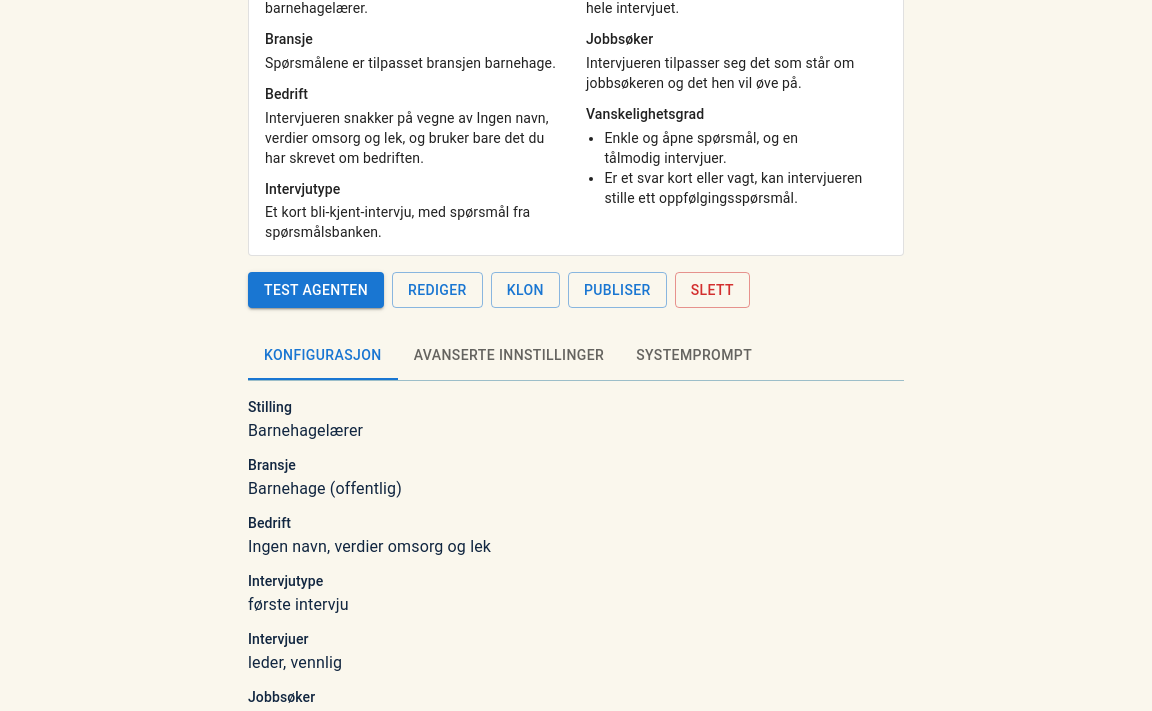
Test: AgentDetail › copying the system prompt › tells the counsellor to copy by hand when the browser refuses
(page scrolled)
Click the tab "Systemprompt".
click(694, 356)  # box [620,332,768,380]
(page scrolled)
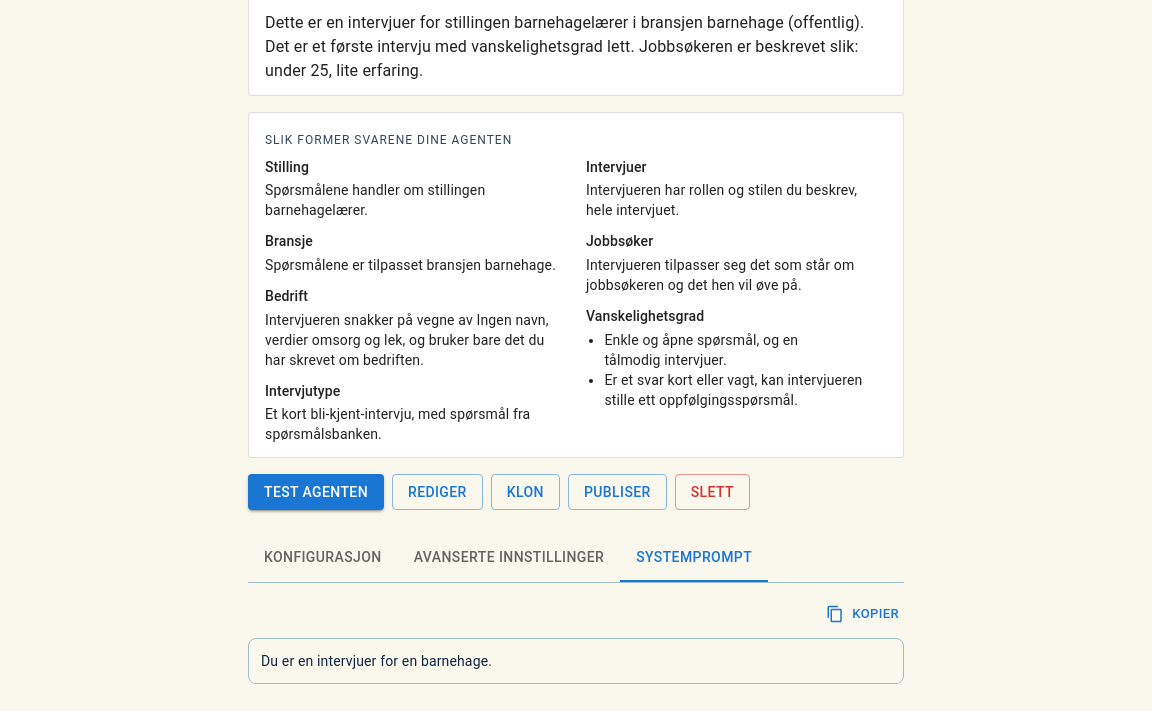
Click the button "Kopier".
click(864, 614)  # box [823,599,904,630]
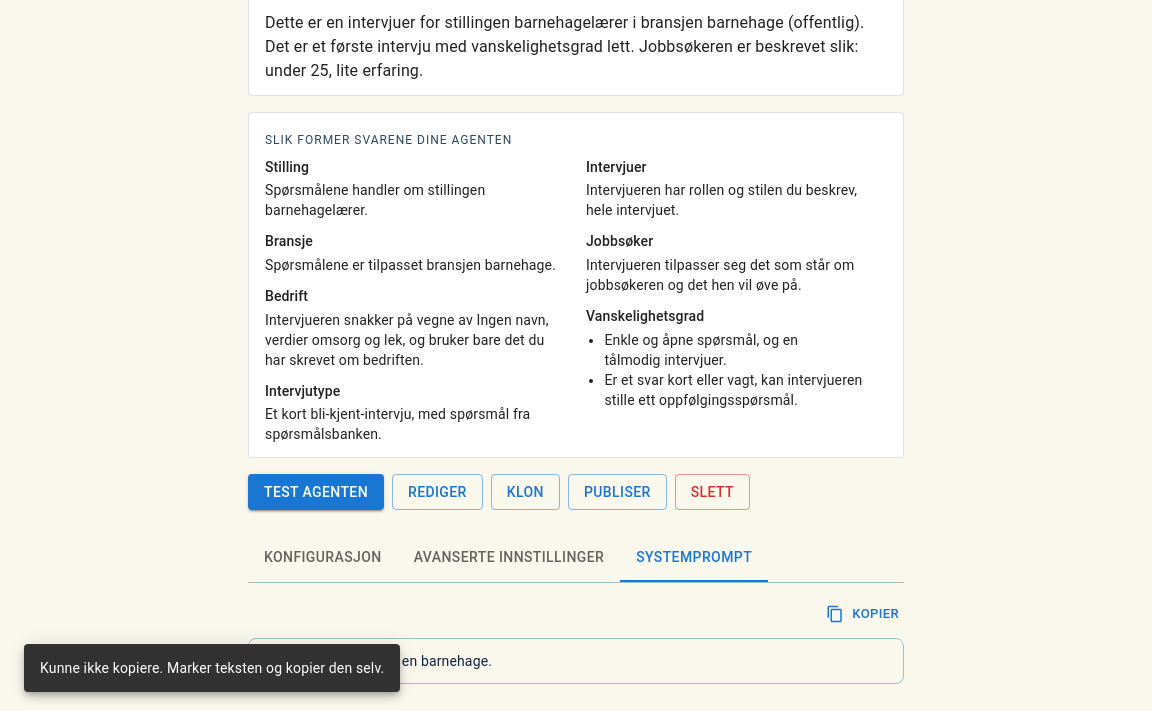
Expected: the text "Kunne ikke kopiere. Marker teksten og kopier den selv." is shown, [40,660,384,676]
